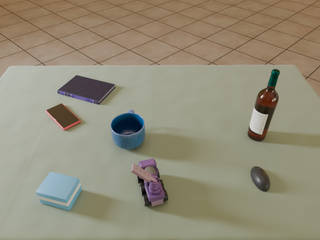book: (57, 75, 115, 104)
bottle: (248, 69, 280, 141)
box: (36, 172, 82, 211)
cup: (111, 110, 145, 149)
mouse: (251, 166, 270, 191)
phone: (46, 104, 81, 130)
toy_car: (131, 159, 168, 206)
